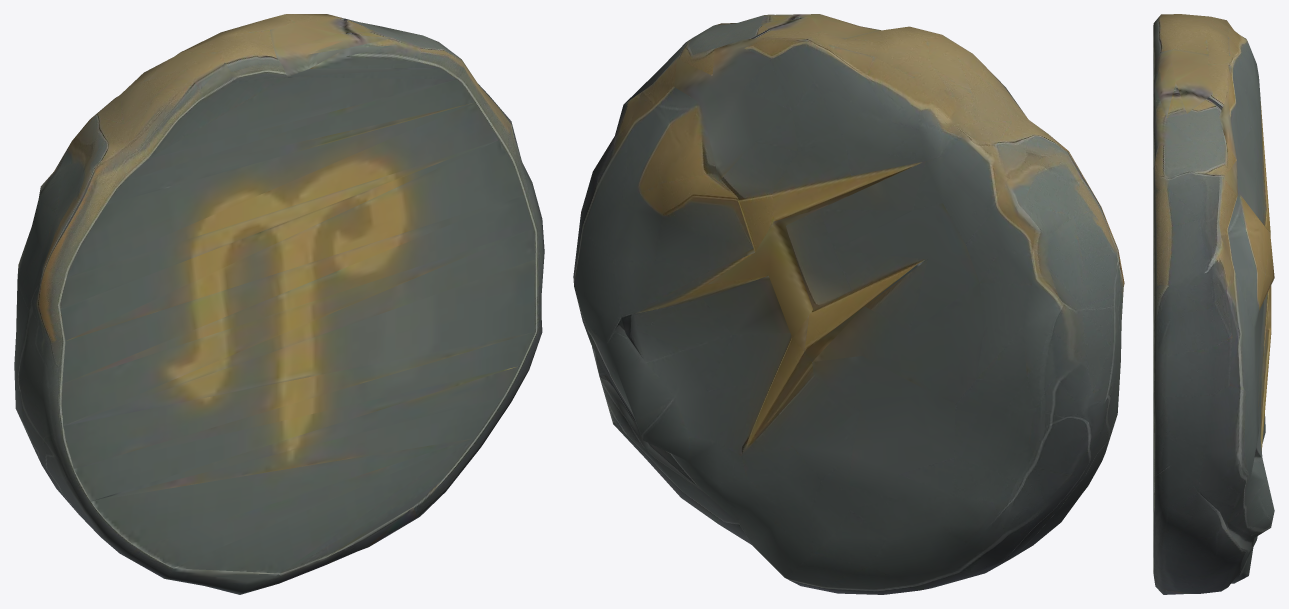
File: hasteRune.glb
3 views of the same model, side by side, from view 1: azimuth 30°, elevation 25°; view 2: azimuth 150°, elevation 25°; view 3: azimuth 270°, elevation 25° (orthographic). The views are drawn at different scales.
Bounding box in the file's own units: 0.9502 × 0.9531 × 0.2007.
1 material, 1 textured.
